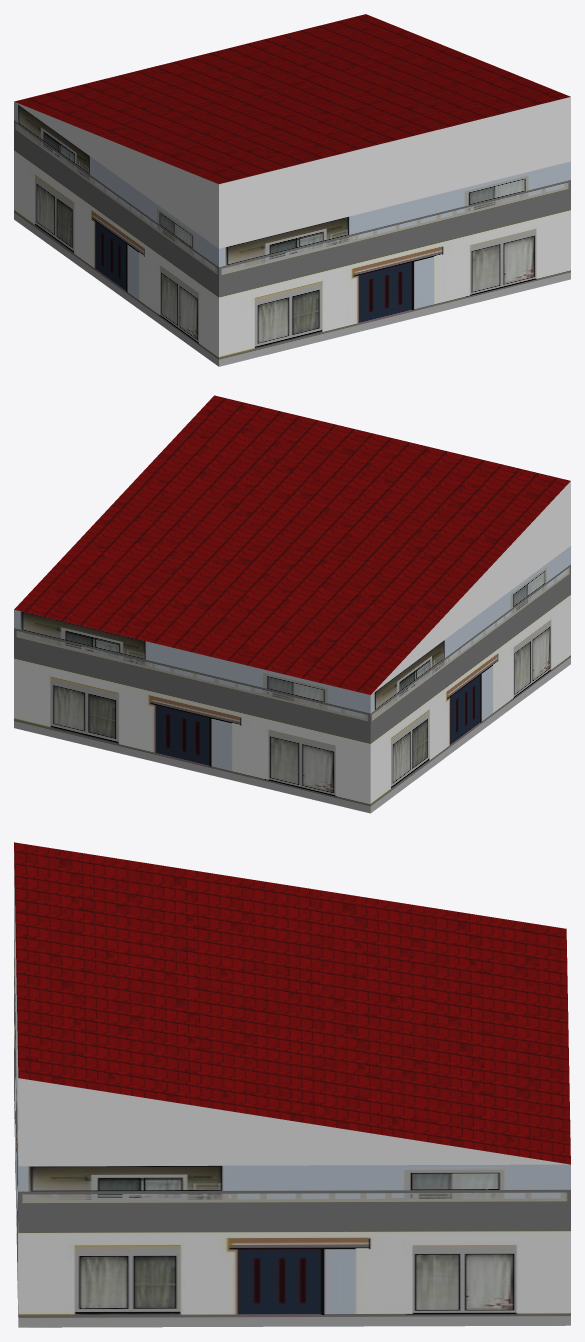
The picture shows the model from 3 angles, top to bottom: view 1: azimuth 30°, elevation 25°; view 2: azimuth 150°, elevation 25°; view 3: azimuth 270°, elevation 25°; orthographic projection. The views are drawn at different scales.
Visible parts, largest first — view 1: CityEngineMaterial_7_m, CityEngineMaterial_17_m, CityEngineMaterial_3_m; view 2: CityEngineMaterial_17_m, CityEngineMaterial_7_m, CityEngineMaterial_3_m; view 3: CityEngineMaterial_17_m, CityEngineMaterial_7_m, CityEngineMaterial_3_m.
Boxes of the visible parts, <box> form: CityEngineMaterial_7_m: <box>14,102,570,366</box>; CityEngineMaterial_17_m: <box>14,14,570,183</box>; CityEngineMaterial_3_m: <box>15,97,570,248</box>; CityEngineMaterial_17_m: <box>14,395,570,694</box>; CityEngineMaterial_7_m: <box>14,546,570,813</box>; CityEngineMaterial_3_m: <box>371,481,570,694</box>; CityEngineMaterial_17_m: <box>14,842,570,1164</box>; CityEngineMaterial_7_m: <box>14,940,570,1327</box>; CityEngineMaterial_3_m: <box>14,851,569,1166</box>.
Bounding box in the file's own units: 19.5 × 9.55 × 19.32.
